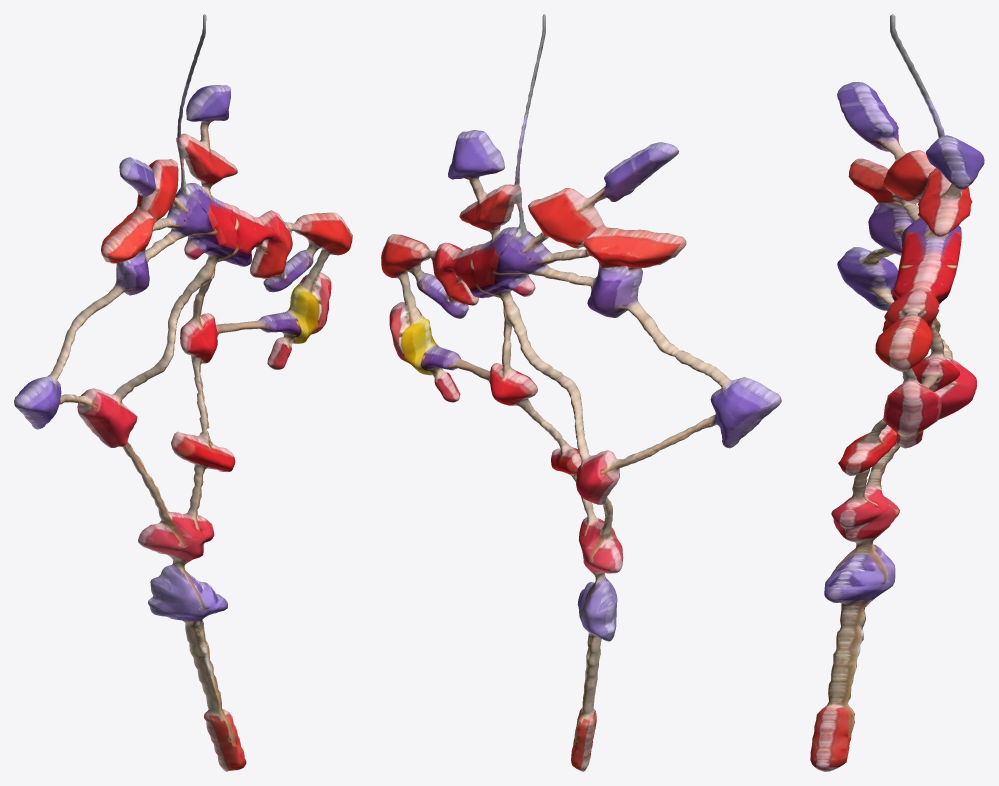
File: hy3d-mov-032.glb
3 views of the same model, side by side, from view 1: azimuth 30°, elevation 25°; view 2: azimuth 150°, elevation 25°; view 3: azimuth 270°, elevation 25° (orthographic). The views are drawn at different scales.
Parts seen in each view (by area): view 1: world; view 2: world; view 3: world.
Part boxes in pixels (x1,y1,x2,y2): world: (14,14,352,771); world: (381,14,781,771); world: (810,14,984,771).
Size of the model in its own units: 1.09 by 2.15 by 0.4461.
1 material, 1 textured.
